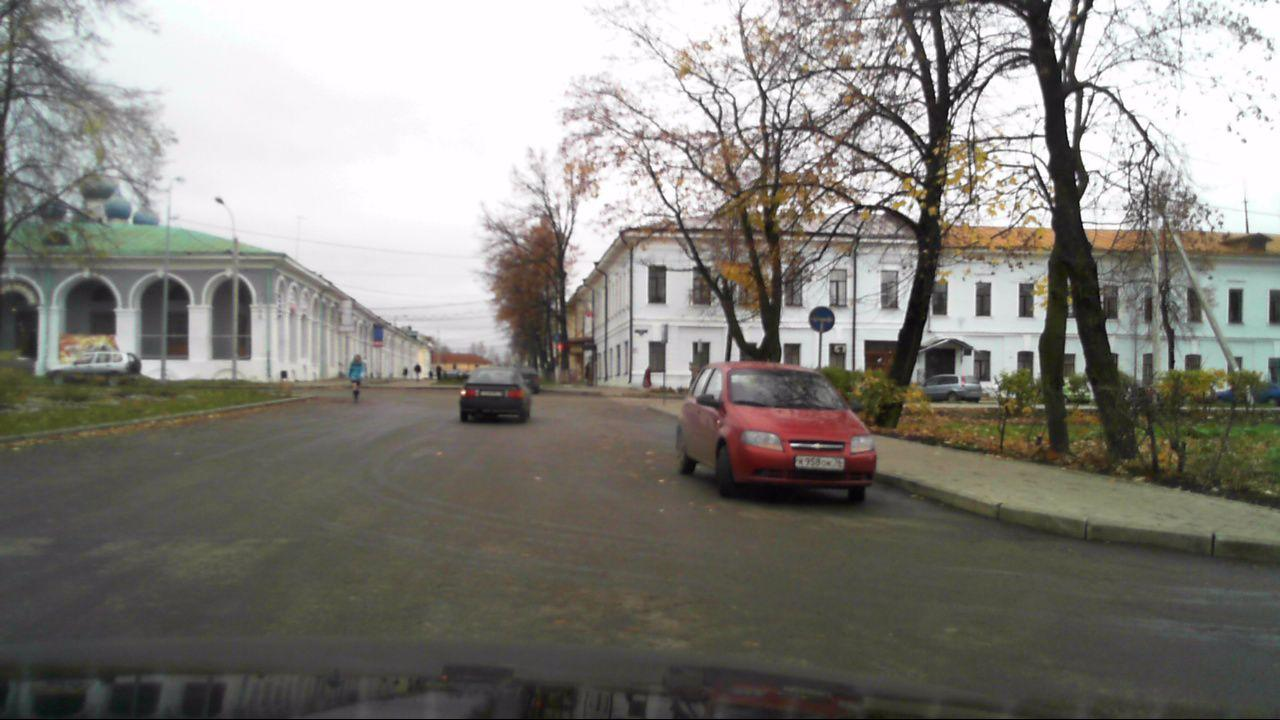road_sign: (809, 304, 836, 333)
